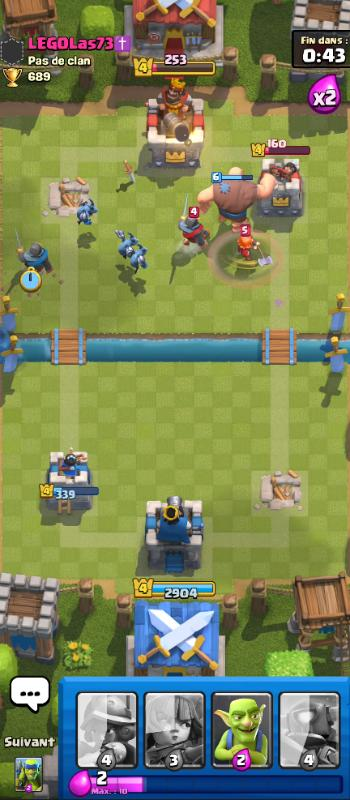chevalier: (10, 224, 58, 281), (181, 191, 210, 252)
gargouille: (113, 226, 138, 259), (71, 197, 98, 226), (127, 242, 150, 274)
geant: (204, 164, 277, 223)
valkyrie: (229, 230, 274, 274)
